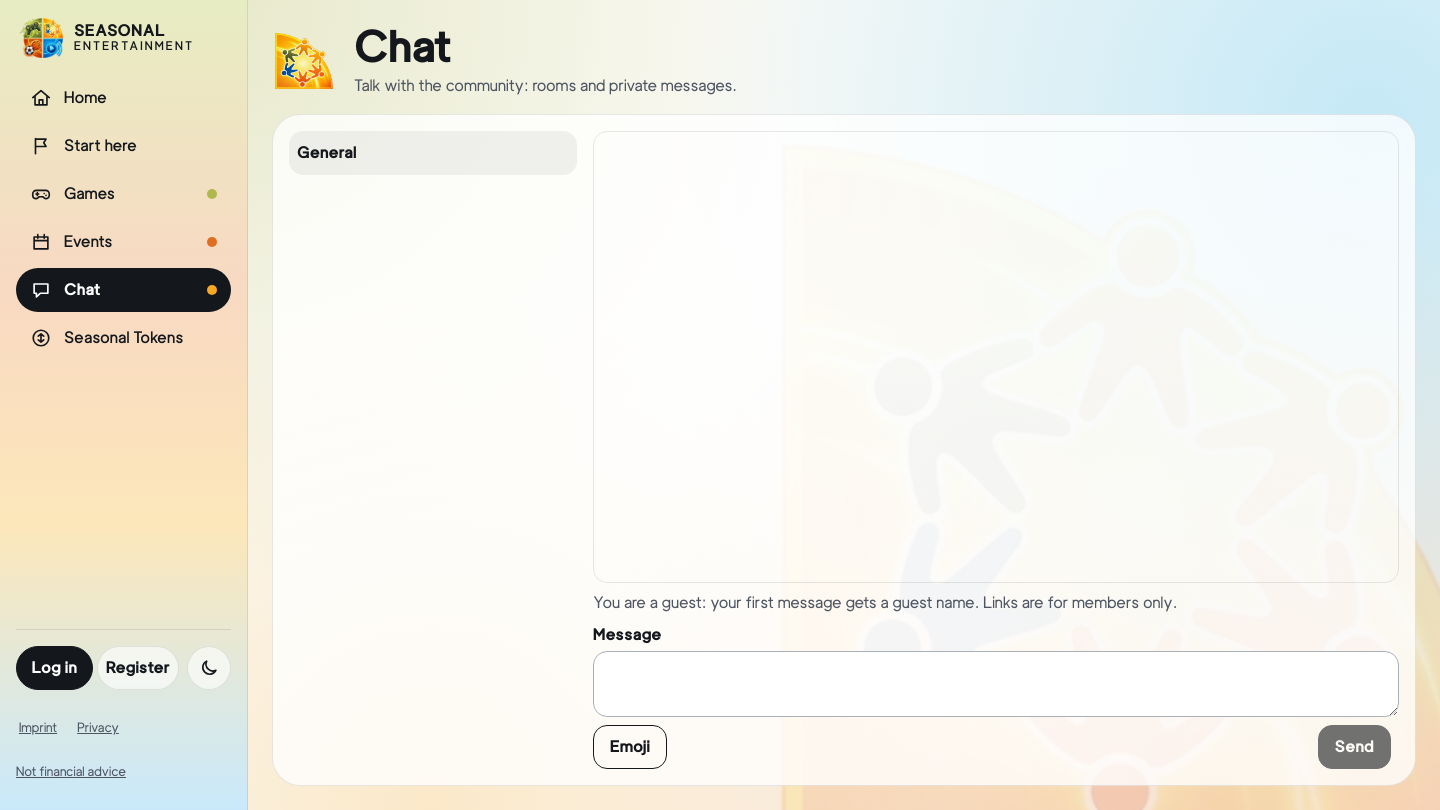
Test: picker › guests get only the Emoji tab and a hint
Step 1. Click the button "Emoji" → (630, 747), box [593, 725, 667, 769]
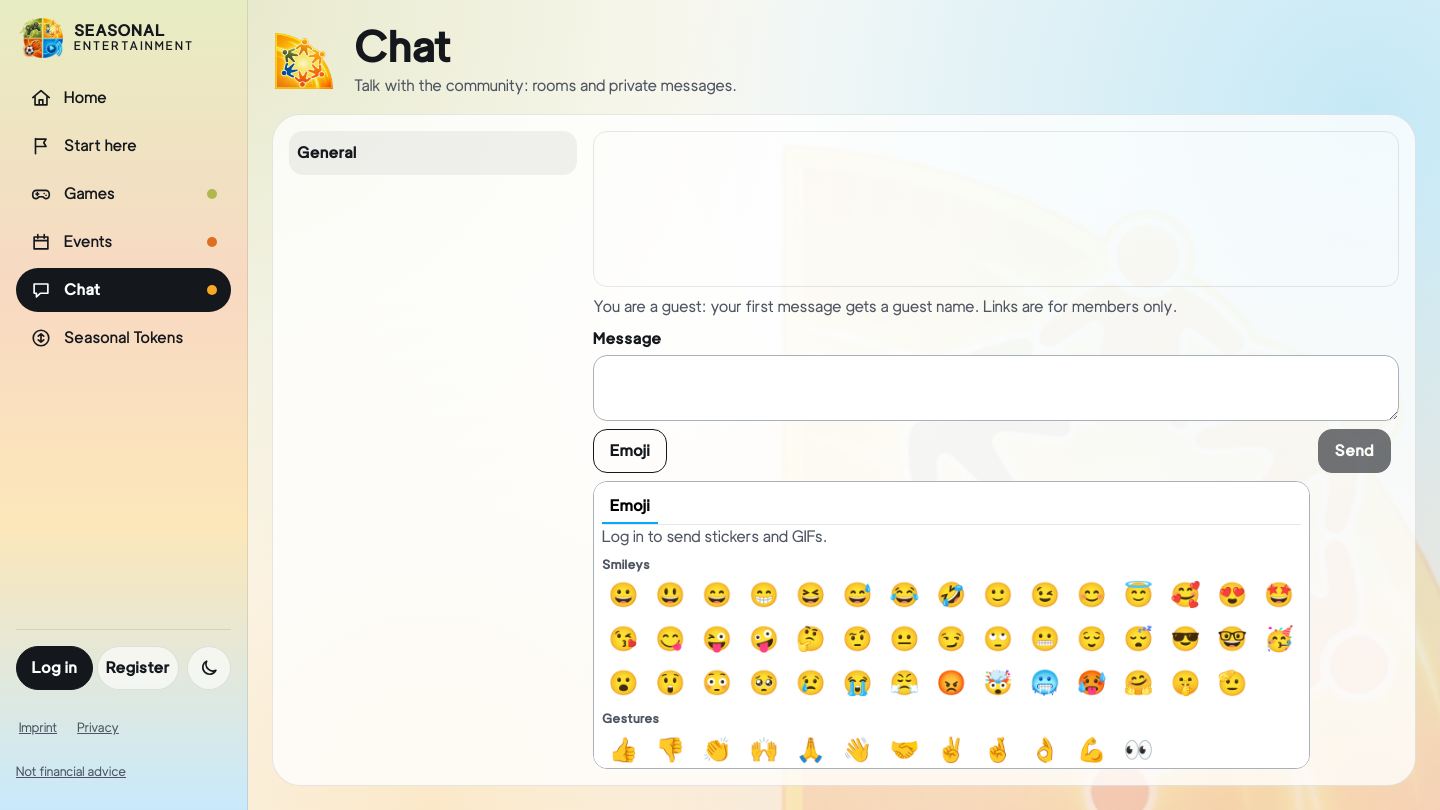
Now the text "Log in to send stickers and GIFs." is shown, box [602, 527, 827, 546]
